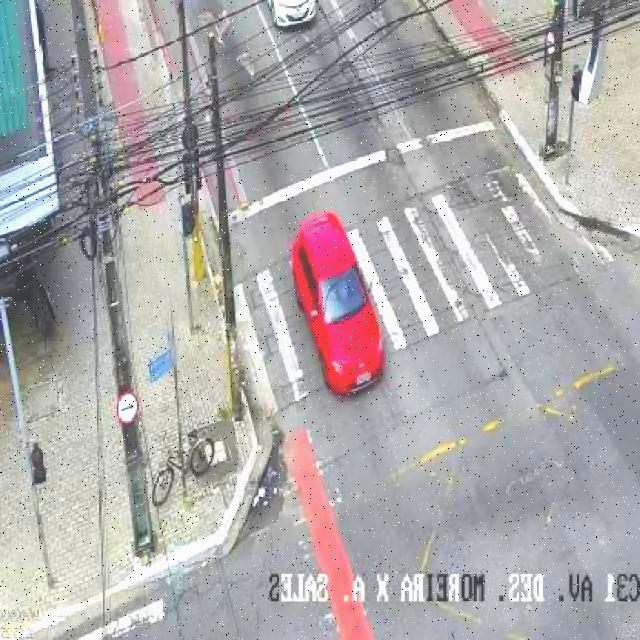Car: (290, 210, 387, 395), (266, 0, 318, 29)
Cycle: (150, 427, 217, 507)
